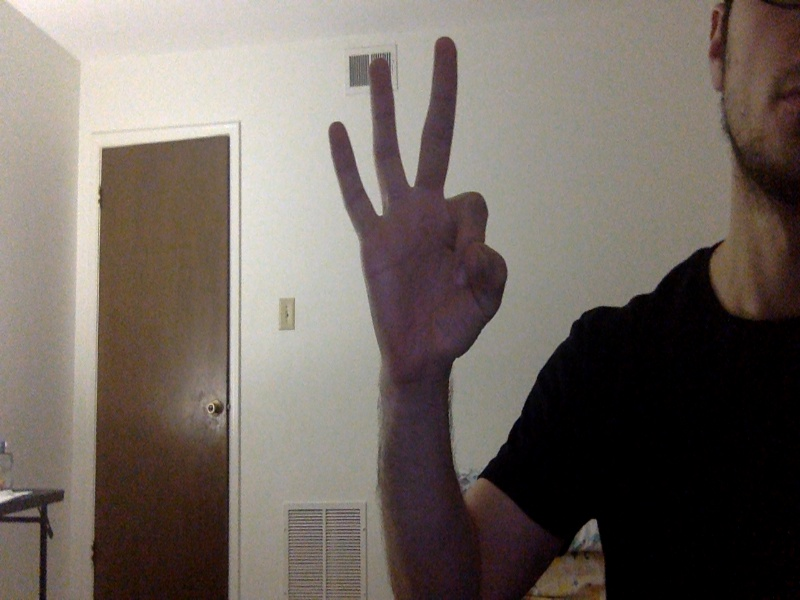3-hand: (327, 34, 508, 376)
